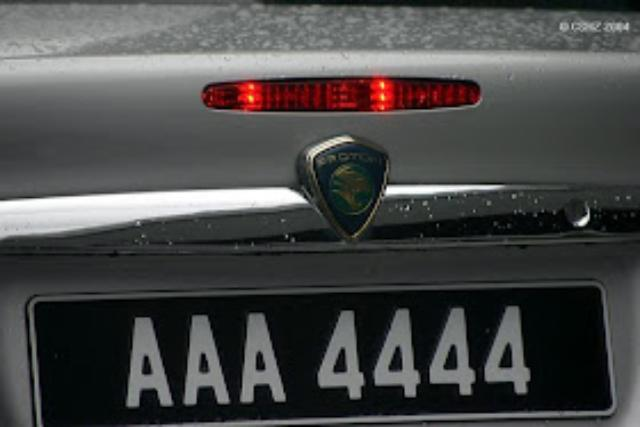License_Plate: (27, 288, 625, 427)
